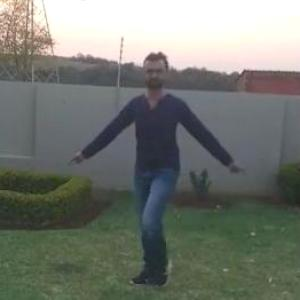land: (93, 62, 220, 248)
